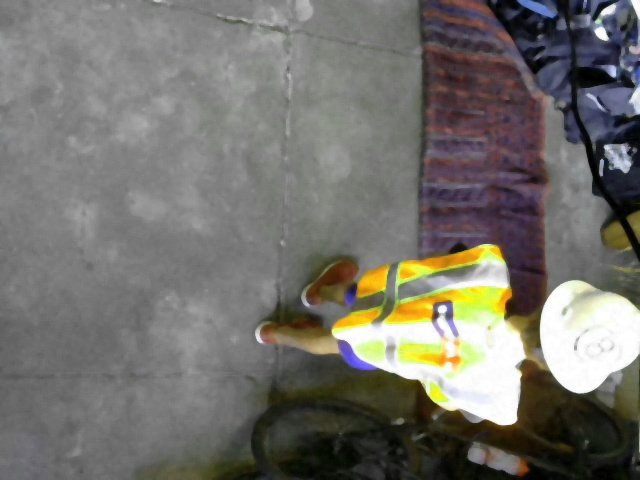eight: (573, 326, 623, 370)
